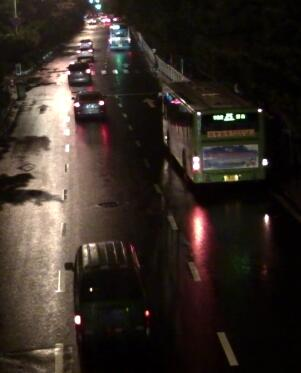bus: (157, 78, 267, 191), (106, 21, 132, 52)
car: (63, 241, 157, 354), (71, 87, 108, 119), (65, 60, 92, 85), (74, 46, 96, 59), (77, 36, 97, 47)
